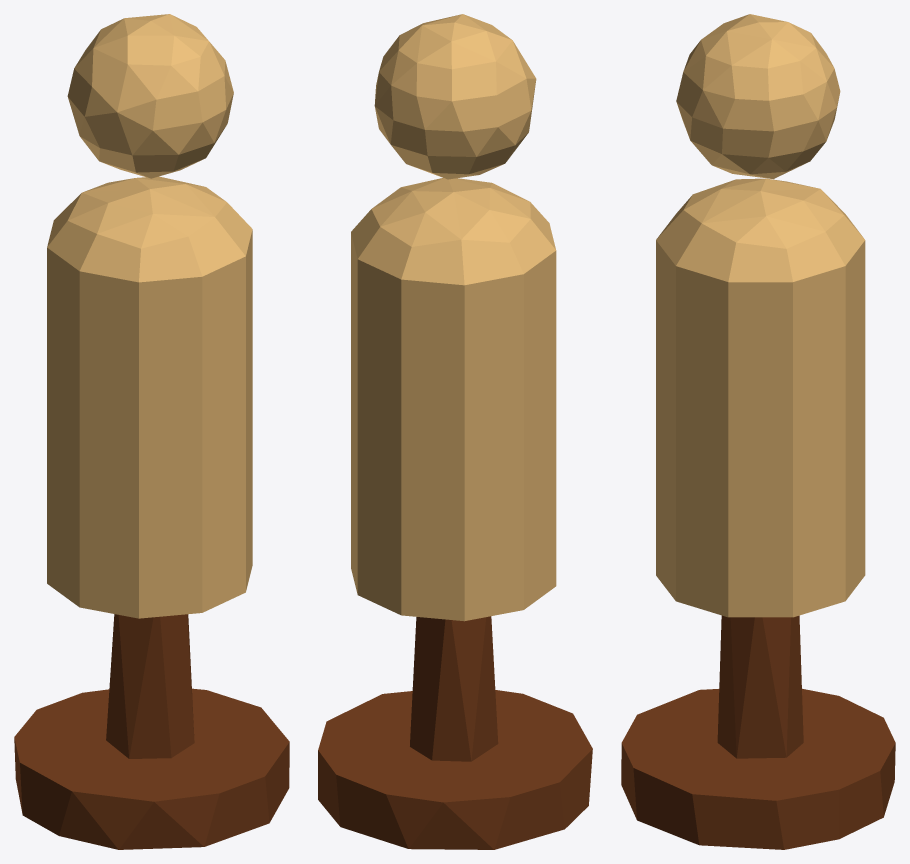
Rendered from target-dummy.fbx.
The picture shows the model from 3 angles, left to right: view 1: azimuth 30°, elevation 25°; view 2: azimuth 150°, elevation 25°; view 3: azimuth 270°, elevation 25°; orthographic projection.
Parts seen in each view (by area): view 1: Cylinder; view 2: Cylinder; view 3: Cylinder.
Boxes of the visible parts, x1,y1,x2,y2 form: Cylinder: (14, 14, 289, 849); Cylinder: (318, 14, 592, 849); Cylinder: (621, 14, 895, 849).
Bounding box in the file's own units: 200 × 620 × 200.
